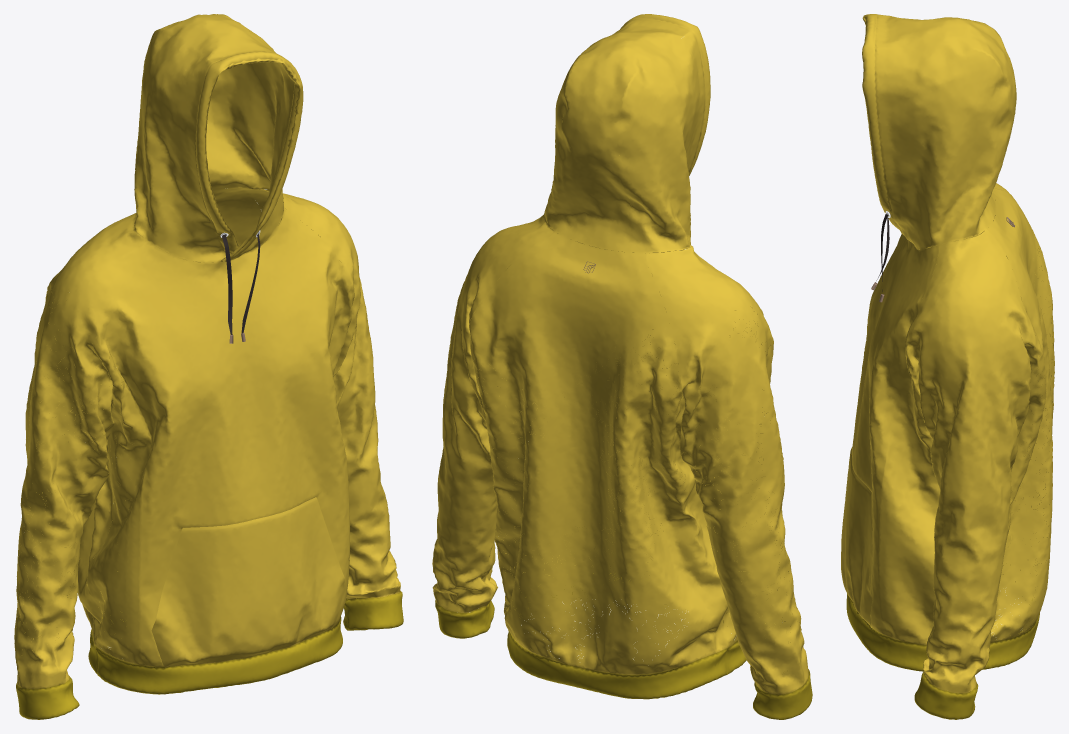
Rendered from hoodie.gltf.
3 views of the same model, side by side, from view 1: azimuth 30°, elevation 25°; view 2: azimuth 150°, elevation 25°; view 3: azimuth 270°, elevation 25° (orthographic). The views are drawn at different scales.
Visible parts, largest first — view 1: Object_4, Object_5, Object_9, Object_10; view 2: Object_4, Object_5, Object_9; view 3: Object_4, Object_5, Object_9.
Boxes of the visible parts, left/top/right/bottom form: Object_4: left=14, top=14, right=354, bottom=688; Object_5: left=15, top=187, right=400, bottom=667; Object_9: left=16, top=591, right=403, bottom=719; Object_10: left=222, top=234, right=260, bottom=334; Object_4: left=470, top=14, right=808, bottom=694; Object_5: left=432, top=214, right=804, bottom=674; Object_9: left=435, top=573, right=812, bottom=719; Object_4: left=852, top=14, right=1054, bottom=644; Object_5: left=841, top=188, right=1054, bottom=693; Object_9: left=846, top=565, right=1039, bottom=719.
Bounding box in the file's own units: 0.2345 × 0.386 × 0.1208.
